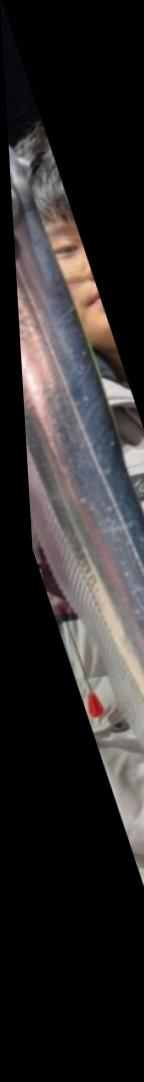fish: (7, 149, 144, 765)
